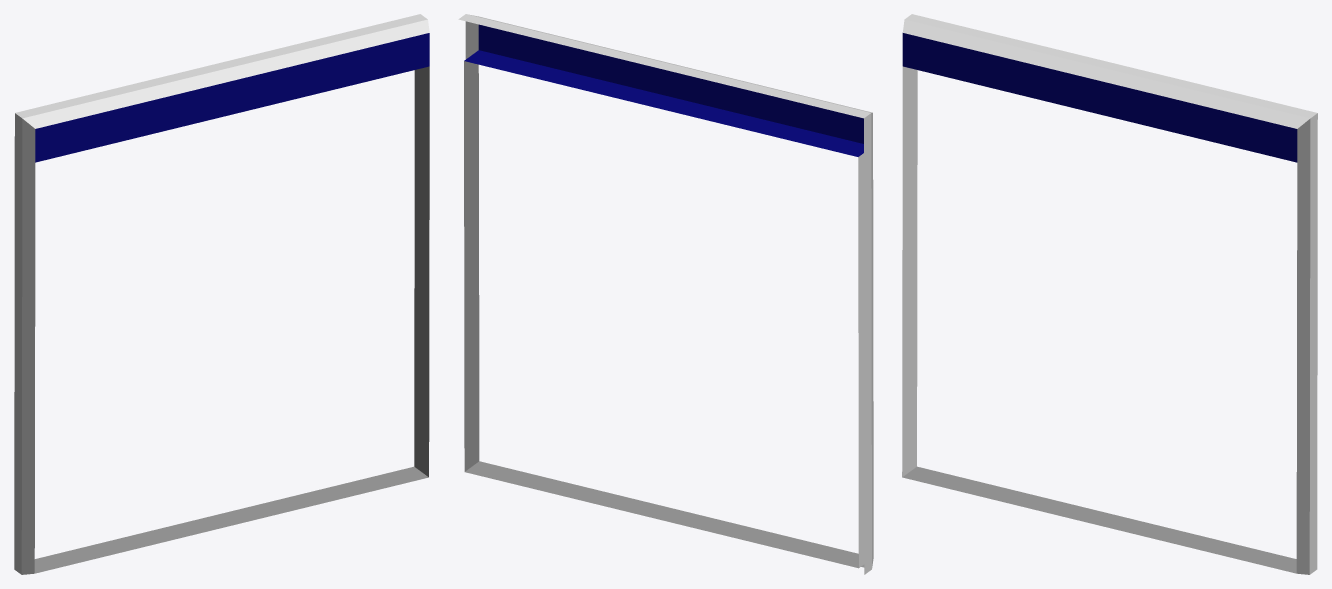
File: DP_Frame_001.glb
3 views of the same model, side by side, from view 1: azimuth 30°, elevation 25°; view 2: azimuth 150°, elevation 25°; view 3: azimuth 330°, elevation 25° (orthographic).
Visible parts, largest first — view 1: Cube.003; view 2: Cube.003; view 3: Cube.003.
Boxes of the visible parts, bbox=[...] form: Cube.003: bbox=[14, 14, 429, 574]; Cube.003: bbox=[458, 14, 873, 574]; Cube.003: bbox=[902, 14, 1317, 574].
Bounding box in the file's own units: 2.07 × 2.22 × 0.1312.
